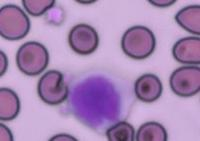M: (66, 68, 136, 130)
